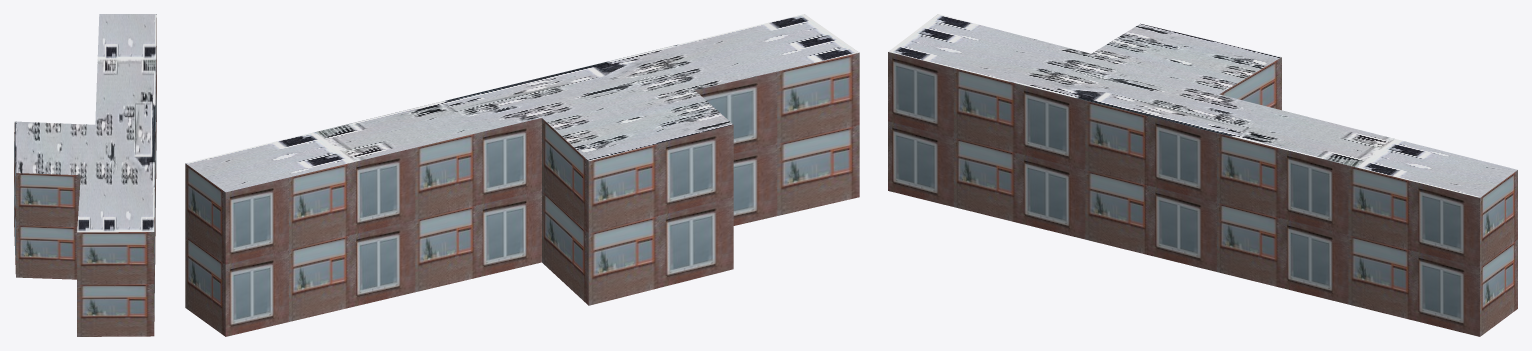
The model's file is ResTex__1243.fbx.
3 views of the same model, side by side, from view 1: azimuth 30°, elevation 25°; view 2: azimuth 150°, elevation 25°; view 3: azimuth 270°, elevation 25° (orthographic). The views are drawn at different scales.
Parts seen in each view (by area): view 1: CityEngineMaterial_15_m, CityEngineMaterial_19_m; view 2: CityEngineMaterial_19_m, CityEngineMaterial_15_m; view 3: CityEngineMaterial_19_m, CityEngineMaterial_15_m.
Boxes of the visible parts, box(x1,y1,x2,y2) form: CityEngineMaterial_15_m: box(14, 14, 156, 232); CityEngineMaterial_19_m: box(14, 18, 156, 336); CityEngineMaterial_19_m: box(185, 52, 859, 336); CityEngineMaterial_15_m: box(186, 14, 858, 192); CityEngineMaterial_19_m: box(888, 52, 1517, 336); CityEngineMaterial_15_m: box(888, 14, 1517, 197).
Bounding box in the file's own units: 17.03 × 6 × 24.64.
Materials: 2 (2 with a texture image).
